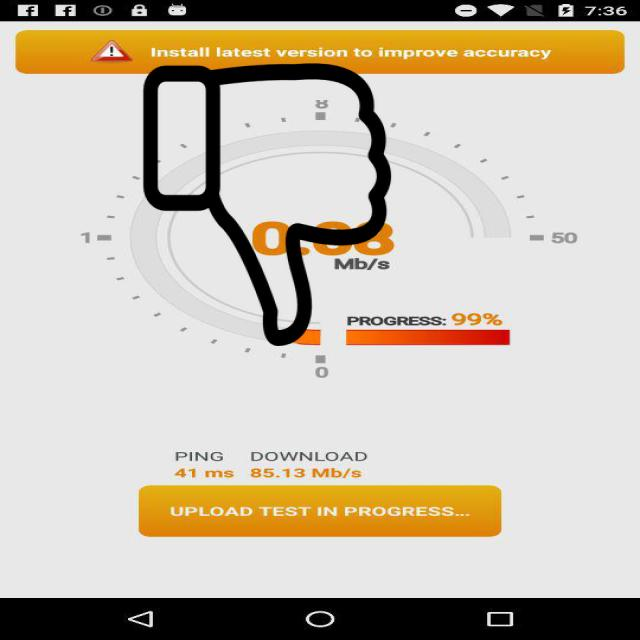obstruction: (140, 63, 395, 346)
